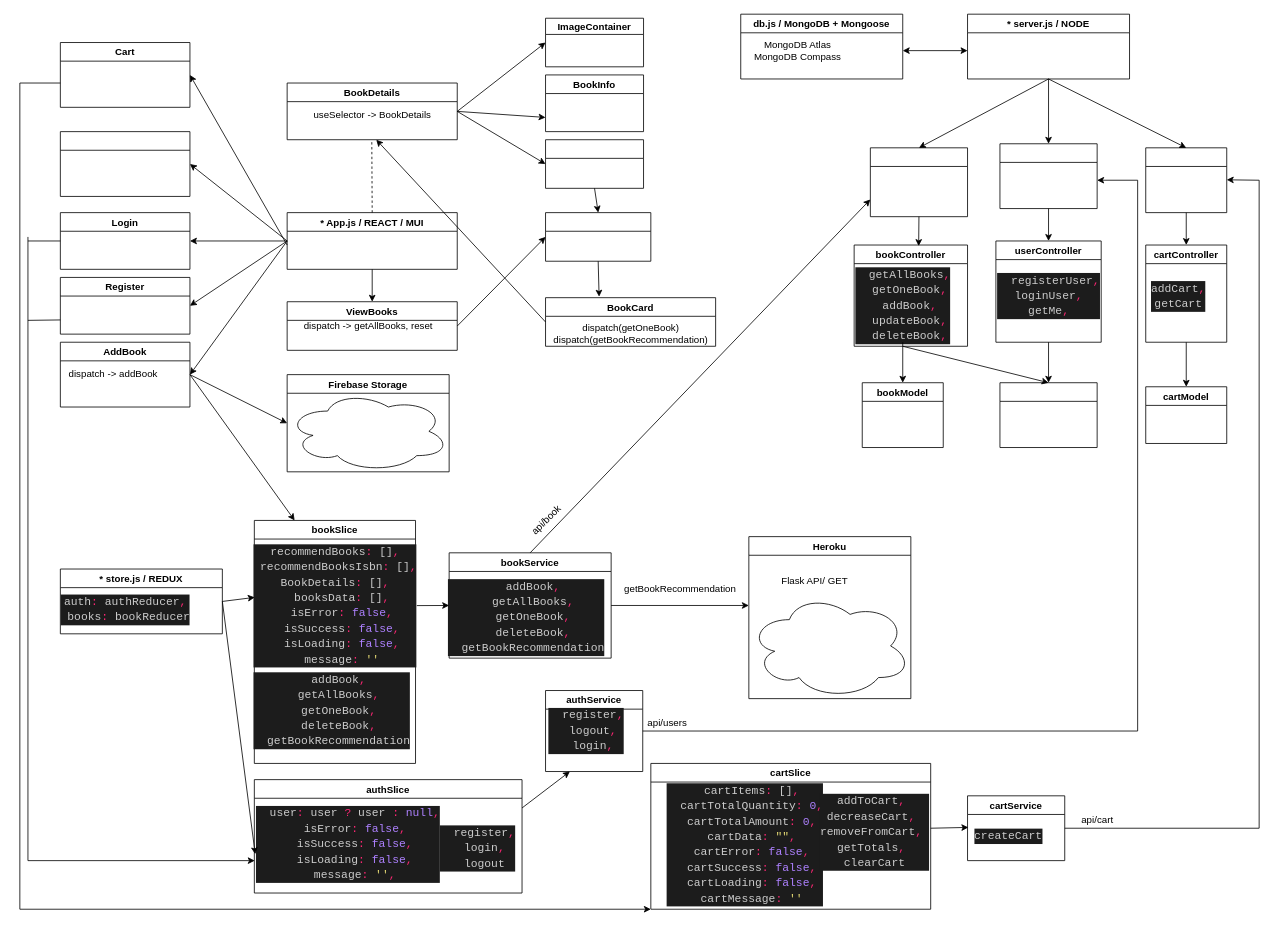
This 1280x930 diagram has some shape labels left out. The centre of each missing label's shape, as x and y in pixels:
bookRoutes: point 919,182
Books: point 598,236
cartRoutes: point 1186,180
Dashboard: point 125,163
Recommend: point 594,163
Recommend Books by "Book Name". Returns upto 5 Books: point 829,646
Storing Book Cover Images. Returns Image File URL: point 367,431
userModel: point 1048,415
userRoutes: point 1048,176
